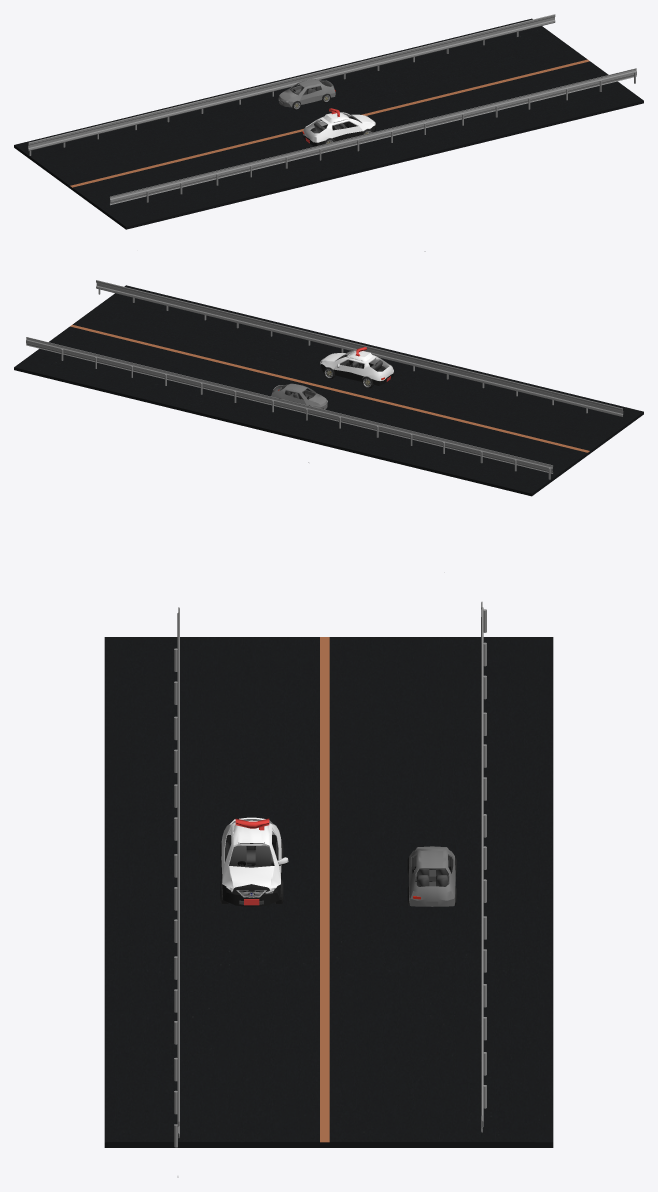
The model's file is ゲーム用車構造 (1).fbx.
3 renders of one model, top to bottom at view 1: azimuth 30°, elevation 25°; view 2: azimuth 150°, elevation 25°; view 3: azimuth 270°, elevation 25°, orthographic. The views are drawn at different scales.
Parts seen in each view (by area): view 1: Cube.013, Cylinder.286, Cube.015, Cube.051, 外装; view 2: Cube.013, Cube.015, Cylinder.286, Cube.051, 外装; view 3: Cube.013, Cube.051, 外装, Cylinder.286, Cube.015.
Boxes of the visible parts, left/top/right/bottom form: Cube.013: left=14, top=18, right=643, bottom=229; Cylinder.286: left=109, top=68, right=636, bottom=205; Cube.015: left=28, top=14, right=555, bottom=155; Cube.051: left=302, top=108, right=375, bottom=146; 外装: left=278, top=79, right=335, bottom=110; Cube.013: left=14, top=285, right=643, bottom=496; Cube.015: left=26, top=337, right=552, bottom=479; Cylinder.286: left=96, top=280, right=623, bottom=416; Cube.051: left=320, top=347, right=393, bottom=388; 外装: left=271, top=383, right=327, bottom=409; Cube.013: left=104, top=637, right=553, bottom=1147; Cube.051: left=220, top=817, right=288, bottom=907; 外装: left=407, top=846, right=456, bottom=906; Cylinder.286: left=174, top=607, right=179, bottom=1147; Cube.015: left=481, top=601, right=486, bottom=1132.
Size of the model in its own units: 4388 by 1154 by 1600.
